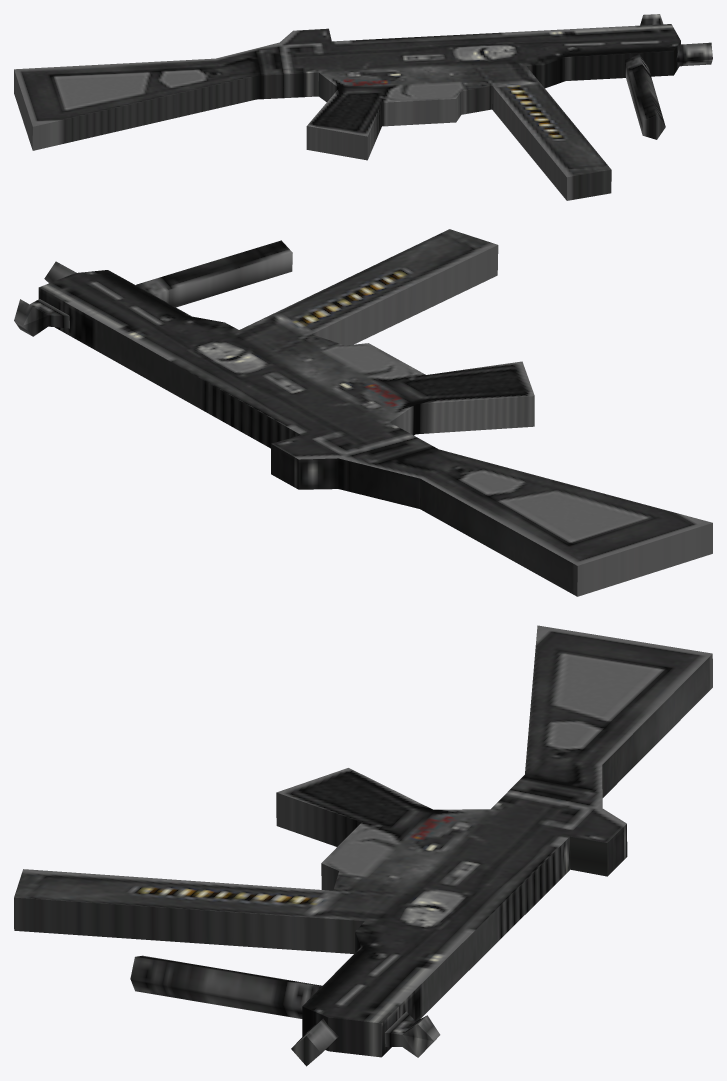
File: ump45-drop.glb
3 renders of one model, top to bottom at view 1: azimuth 30°, elevation 25°; view 2: azimuth 150°, elevation 25°; view 3: azimuth 270°, elevation 25°, orthographic. The views are drawn at different scales.
Parts seen in each view (by area): view 1: ump45 dropped.001; view 2: ump45 dropped.001; view 3: ump45 dropped.001.
Boxes of the visible parts, box(x1,y1,x2,y2) form: ump45 dropped.001: box(14, 14, 712, 200); ump45 dropped.001: box(14, 229, 712, 596); ump45 dropped.001: box(14, 625, 712, 1066).
Bounding box in the file's own units: 0.5475 × 0.0241 × 0.393.
Materials: 1 (1 with a texture image).
